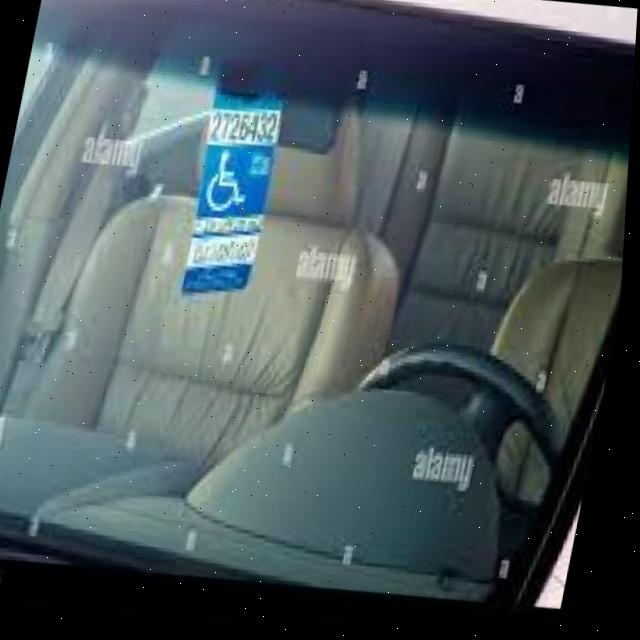symbol_of_access: (205, 151, 259, 221)
